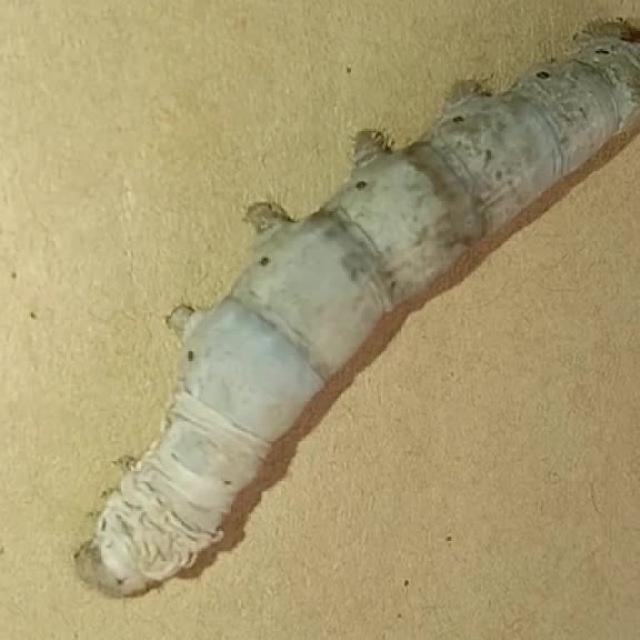Grasserie: (56, 3, 640, 615)
